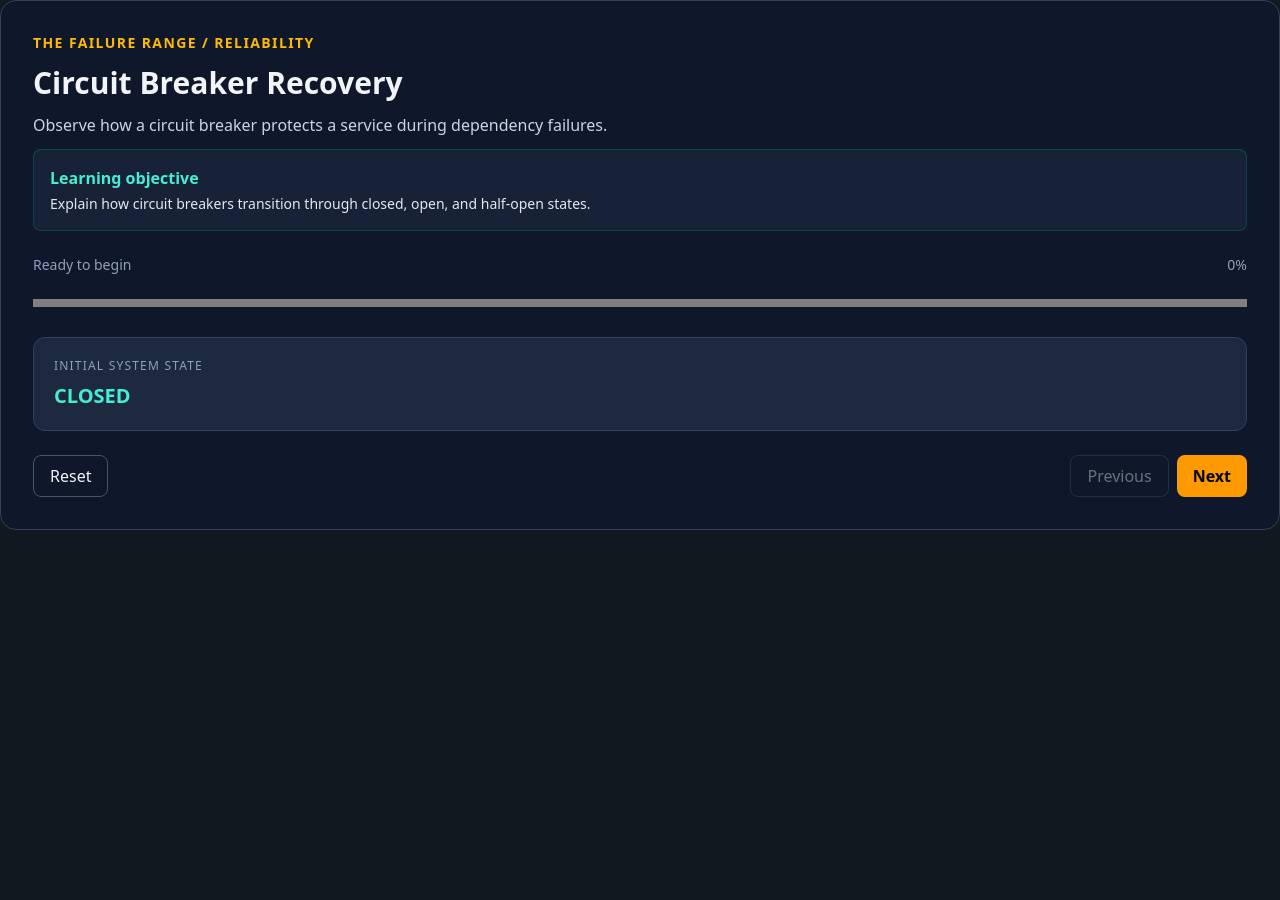
Test: SimulationPlayer › resets to the initial state
Click the button "Next": (1212, 476) x1=1177 y1=455 x2=1247 y2=497
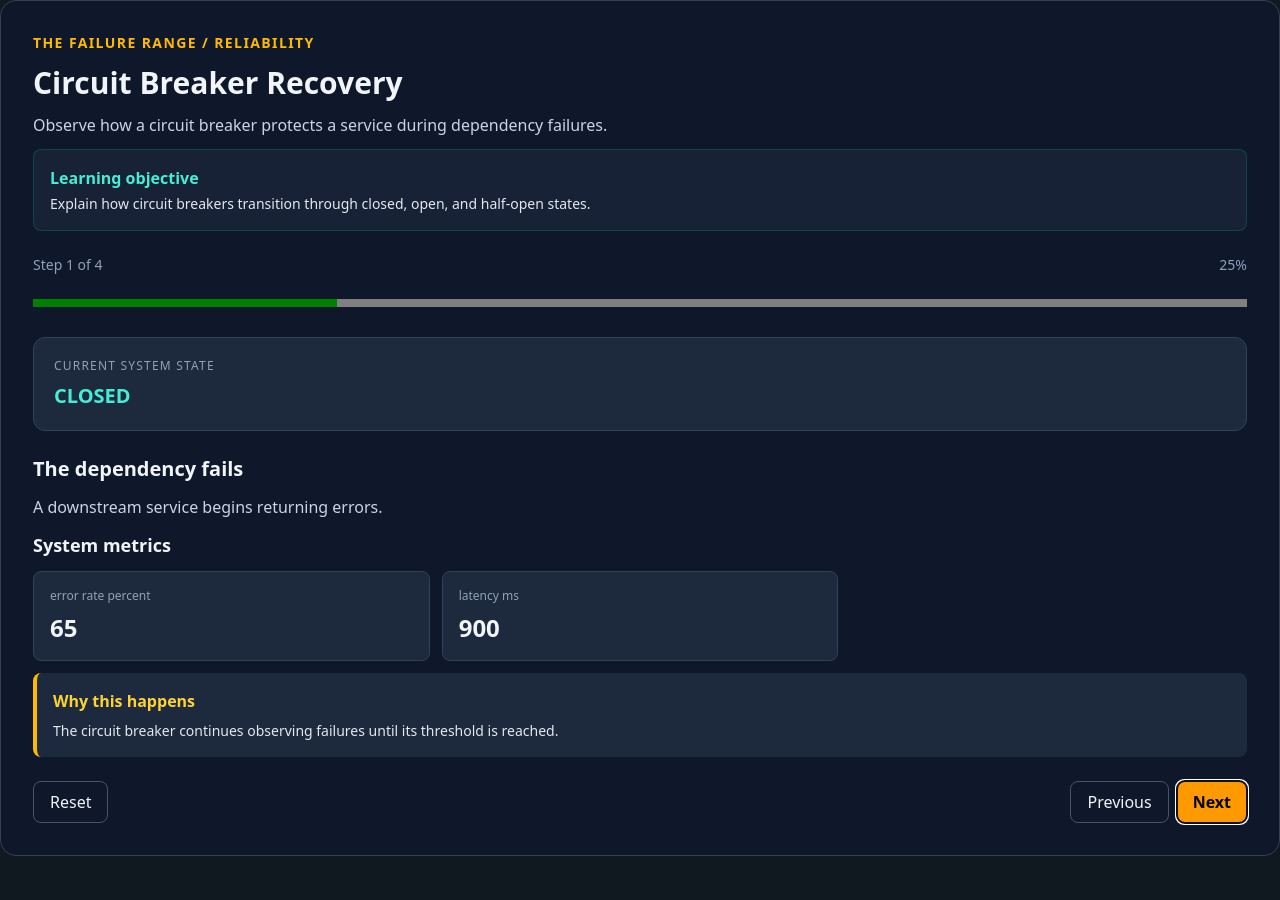
Click the button "Reset": (71, 802) x1=33 y1=781 x2=108 y2=823
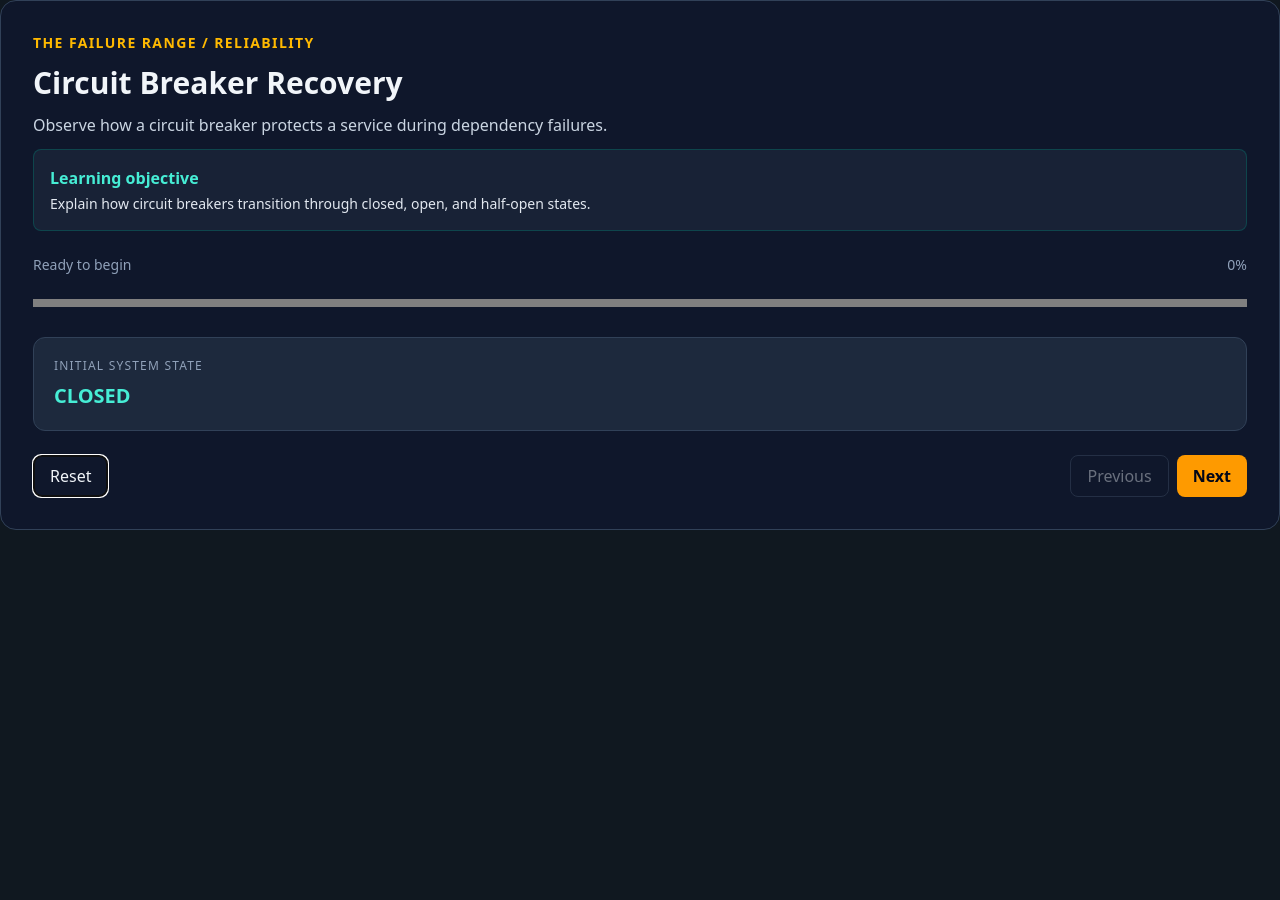
Check: the text "Ready to begin" is shown, box x1=33 y1=255 x2=131 y2=275
Check: the button "Previous" is disabled, box x1=1070 y1=455 x2=1169 y2=497
